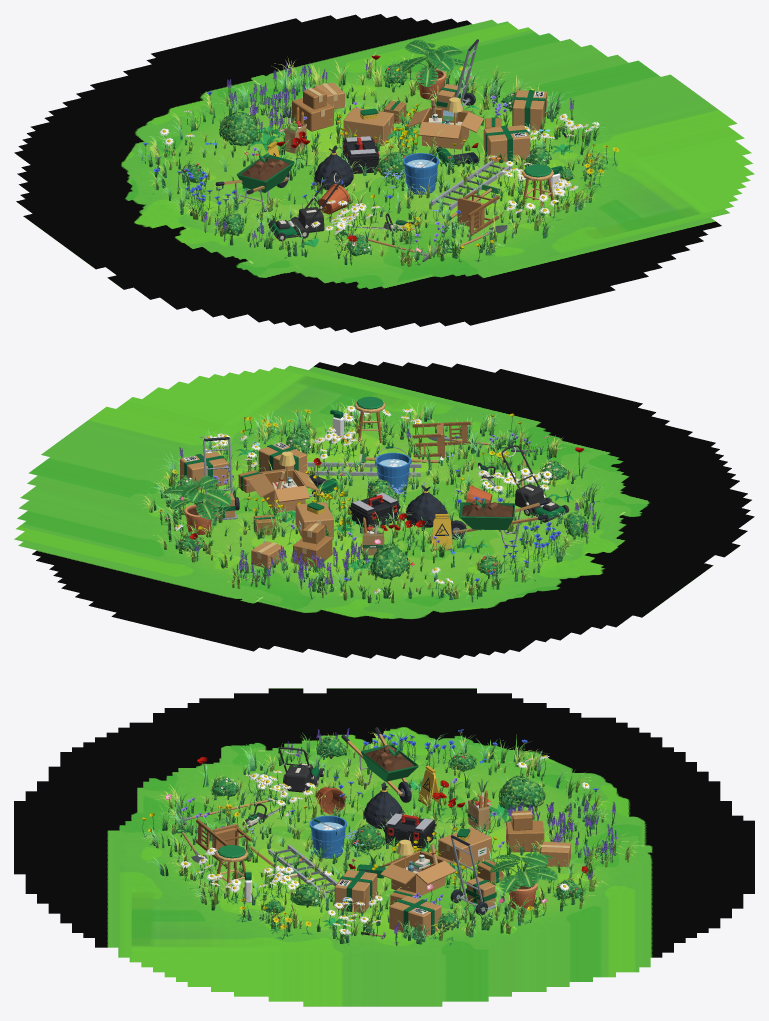
The model's file is ilot.glb.
The picture shows the model from 3 angles, top to bottom: view 1: azimuth 30°, elevation 25°; view 2: azimuth 150°, elevation 25°; view 3: azimuth 270°, elevation 25°; orthographic projection. The views are drawn at different scales.
Visible parts, largest first — view 1: Îlot · Sol, Îlot · Flore, Îlot · Buissons, Carton ouvert · desencombrement, Plante · livraison, Brouette · jardinage, Colis 1 · livraison, Tondeuse · jardinage, Seau · nettoyage, Carton 1 · desencombrement, Colis 1 2 · livraison, Montage 1 · montage (+9 smaller); view 2: Îlot · Sol, Îlot · Flore, Îlot · Buissons, Carton ouvert · desencombrement, Brouette · jardinage, Plante · livraison, Tondeuse · jardinage, Montage 1 · montage, Colis 1 2 · livraison, Seau · nettoyage, Chaise · desencombrement, Colis 1 · livraison (+10 smaller); view 3: Îlot · Sol, Îlot · Flore, Îlot · Buissons, Carton ouvert · desencombrement, Plante · livraison, Brouette · jardinage, Colis 1 2 · livraison, Diable · livraison, Colis 1 · livraison, Seau · nettoyage, Montage 1 · montage, Carton 1 · desencombrement (+10 smaller).
Boxes of the visible parts, box(x1,y1,x2,y2) form: Îlot · Sol: box(14, 14, 754, 332); Îlot · Flore: box(135, 52, 618, 266); Îlot · Buissons: box(180, 64, 574, 256); Carton ouvert · desencombrement: box(407, 97, 483, 149); Plante · livraison: box(395, 39, 469, 99); Brouette · jardinage: box(215, 152, 294, 211); Colis 1 · livraison: box(483, 125, 530, 162); Tondeuse · jardinage: box(268, 170, 341, 241); Seau · nettoyage: box(403, 152, 439, 194); Carton 1 · desencombrement: box(343, 107, 393, 146); Colis 1 2 · livraison: box(512, 90, 546, 130); Montage 1 · montage: box(342, 136, 379, 173); Îlot · Sol: box(14, 361, 754, 659); Îlot · Flore: box(138, 398, 611, 603); Îlot · Buissons: box(177, 428, 587, 579); Carton ouvert · desencombrement: box(249, 451, 319, 512); Brouette · jardinage: box(451, 498, 548, 546); Plante · livraison: box(163, 475, 232, 534); Tondeuse · jardinage: box(501, 445, 569, 522); Montage 1 · montage: box(349, 492, 400, 527); Colis 1 2 · livraison: box(180, 451, 228, 489); Seau · nettoyage: box(375, 446, 411, 493); Chaise · desencombrement: box(412, 421, 471, 457); Colis 1 · livraison: box(258, 442, 306, 473); Îlot · Sol: box(14, 688, 754, 1006); Îlot · Flore: box(141, 728, 639, 945); Îlot · Buissons: box(210, 736, 582, 930); Carton ouvert · desencombrement: box(380, 839, 456, 897); Plante · livraison: box(490, 852, 557, 909); Brouette · jardinage: box(341, 727, 418, 802); Colis 1 2 · livraison: box(389, 895, 441, 937); Diable · livraison: box(450, 835, 497, 915); Colis 1 · livraison: box(334, 869, 377, 913); Seau · nettoyage: box(309, 815, 346, 858); Montage 1 · montage: box(383, 813, 436, 850); Carton 1 · desencombrement: box(438, 827, 491, 868).
Size of the model in its own units: 13.7 by 3.2 by 13.49.
Materials: 99 (1 with a texture image).
